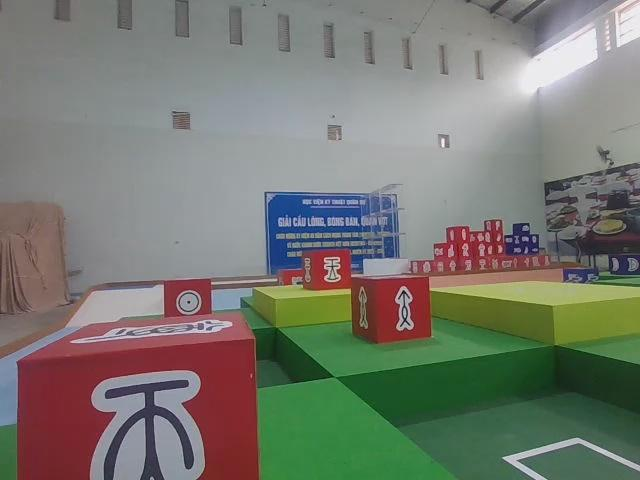R2 Fake: (13, 309, 266, 479)
R2 Real: (347, 279, 435, 347), (161, 274, 215, 323), (303, 253, 351, 289)
